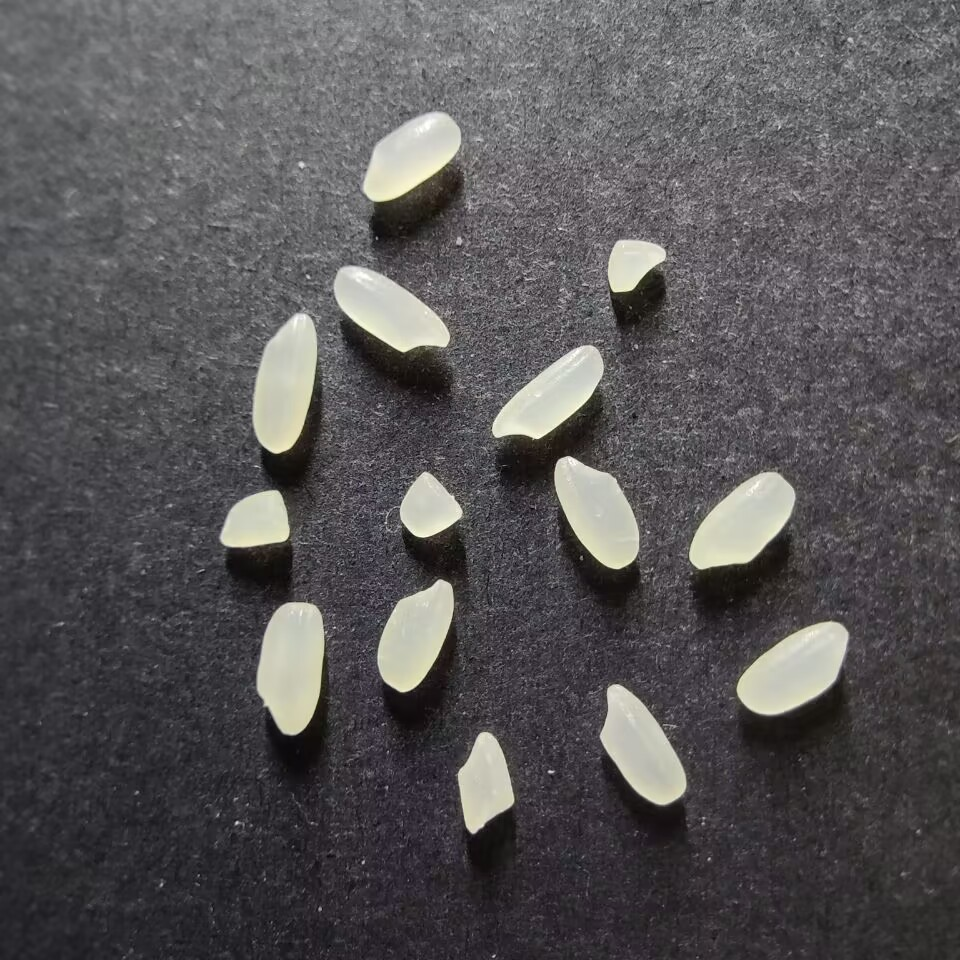broken: (456, 731, 516, 833), (398, 470, 463, 538), (218, 488, 289, 548), (606, 239, 666, 294)
rice: (490, 344, 604, 440), (599, 683, 687, 806), (687, 471, 796, 570), (735, 620, 848, 715), (332, 264, 450, 353), (553, 455, 640, 570), (251, 313, 318, 453), (362, 110, 462, 202), (255, 602, 323, 736), (376, 578, 454, 693)
